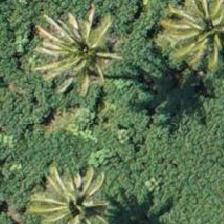coconut_tree: (28, 0, 118, 88), (18, 164, 108, 223)
